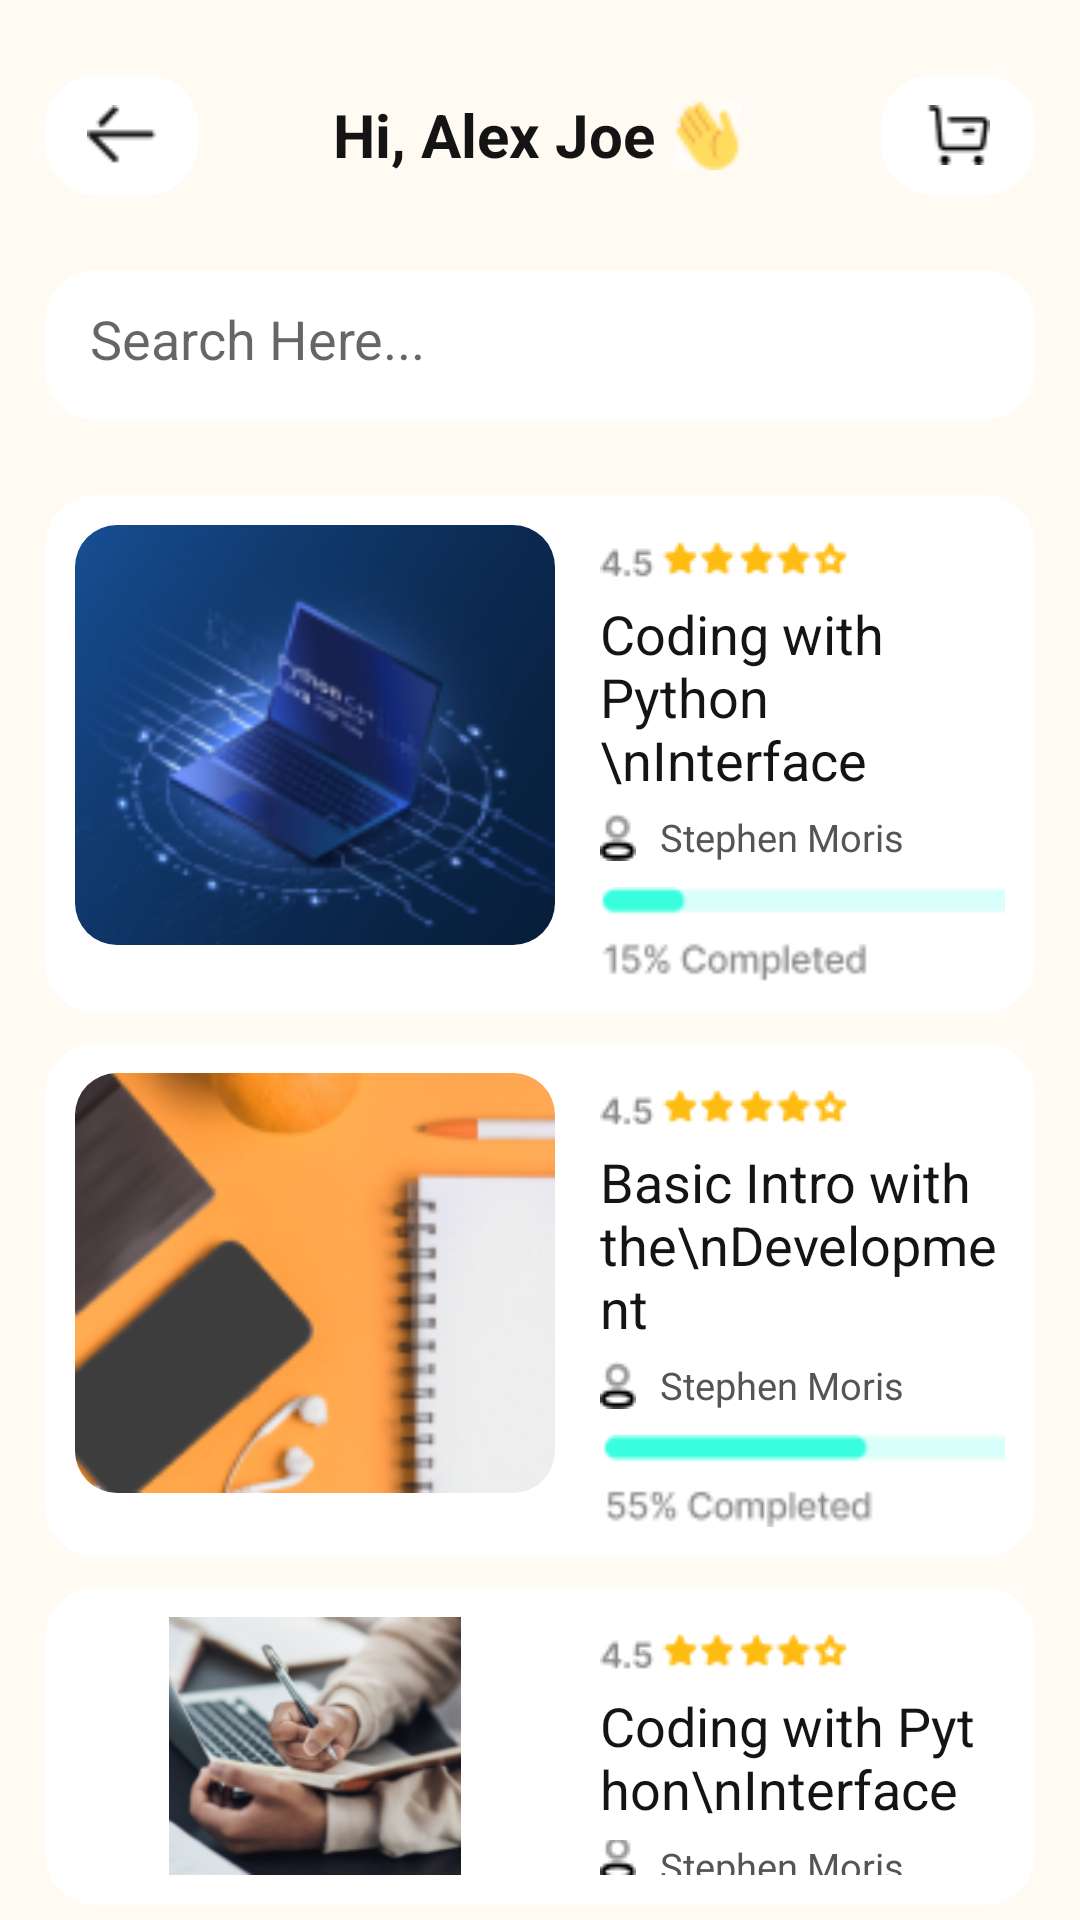

Locate icon controls on the screen. Image size 1080 x 1920, boxes as (x1, y1, x2, y2).
arrowback: (45, 75, 198, 195)
cart: (881, 75, 1035, 195)
hiemoji: (676, 101, 739, 170)
